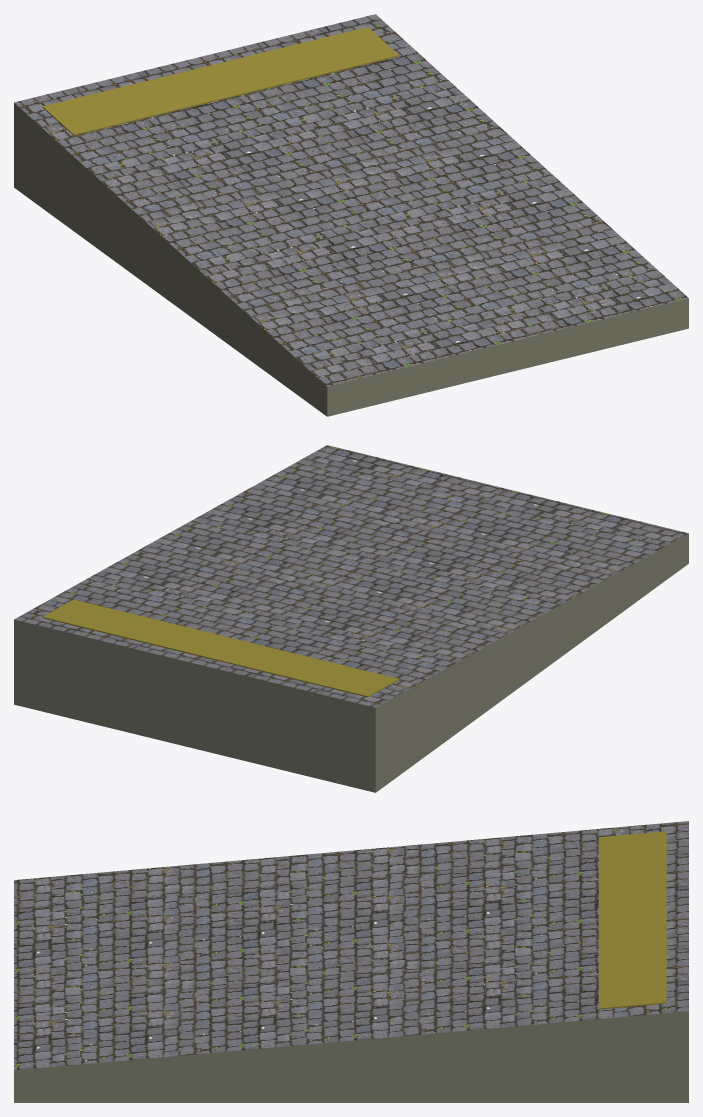
Rendered from lrt_platform_end.fbx.
The picture shows the model from 3 angles, top to bottom: view 1: azimuth 30°, elevation 25°; view 2: azimuth 150°, elevation 25°; view 3: azimuth 270°, elevation 25°; orthographic projection. The views are drawn at different scales.
Parts seen in each view (by area): view 1: lrt_platform_end.001; view 2: lrt_platform_end.001; view 3: lrt_platform_end.001.
Boxes of the visible parts, x1,y1,x2,y2 form: lrt_platform_end.001: (14, 14, 688, 416); lrt_platform_end.001: (14, 445, 688, 792); lrt_platform_end.001: (14, 821, 688, 1102).
Size of the model in its own units: 2 by 0.45 by 3.
